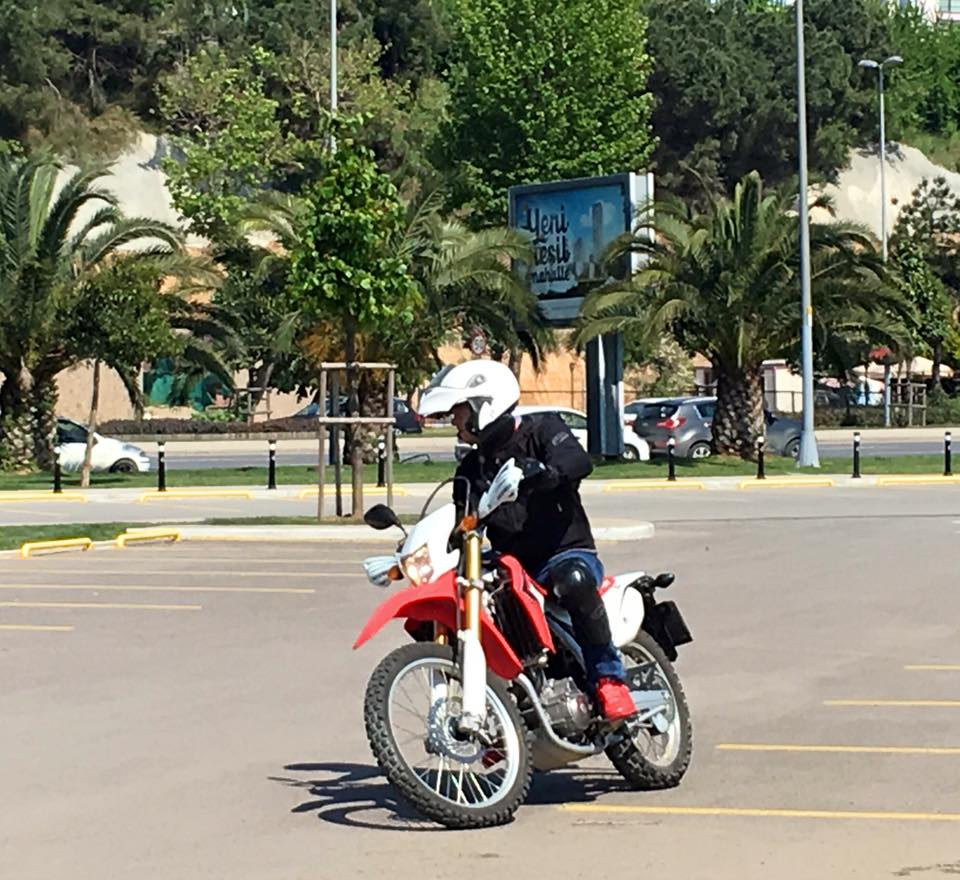motorbike: (355, 502, 729, 838)
